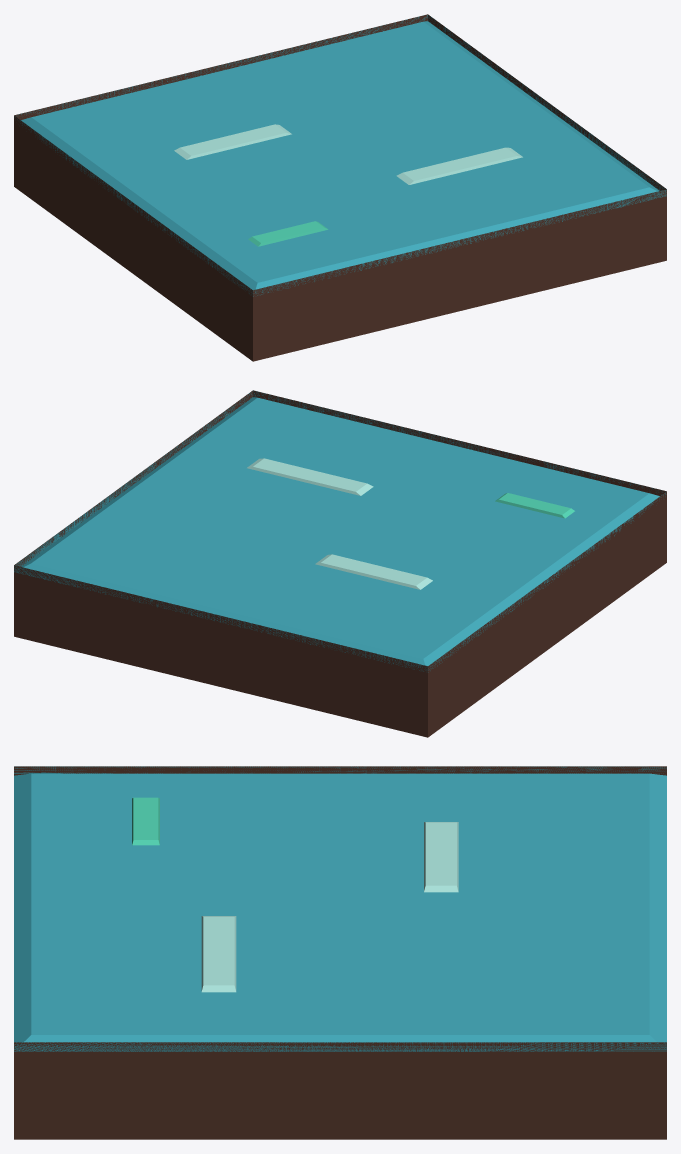
The model's file is tile_water.glb.
3 renders of one model, top to bottom at view 1: azimuth 30°, elevation 25°; view 2: azimuth 150°, elevation 25°; view 3: azimuth 270°, elevation 25°, orthographic. The views are drawn at different scales.
Parts seen in each view (by area): view 1: tile_water; view 2: tile_water; view 3: tile_water.
Part boxes in pixels (x1,y1,x2,y2): tile_water: [14, 14, 666, 361]; tile_water: [14, 390, 666, 737]; tile_water: [14, 766, 666, 1139].
Bounding box in the file's own units: 0.94 × 0.16 × 0.94.
